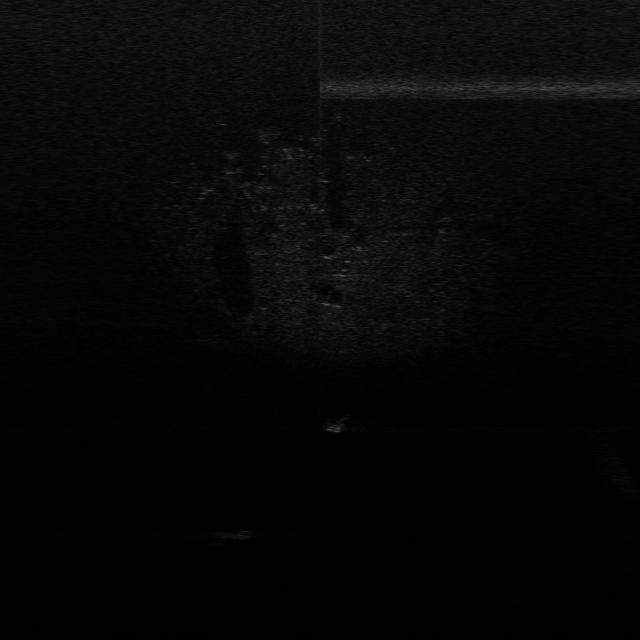cube: (208, 524, 254, 541)
square cage: (323, 413, 351, 434)
